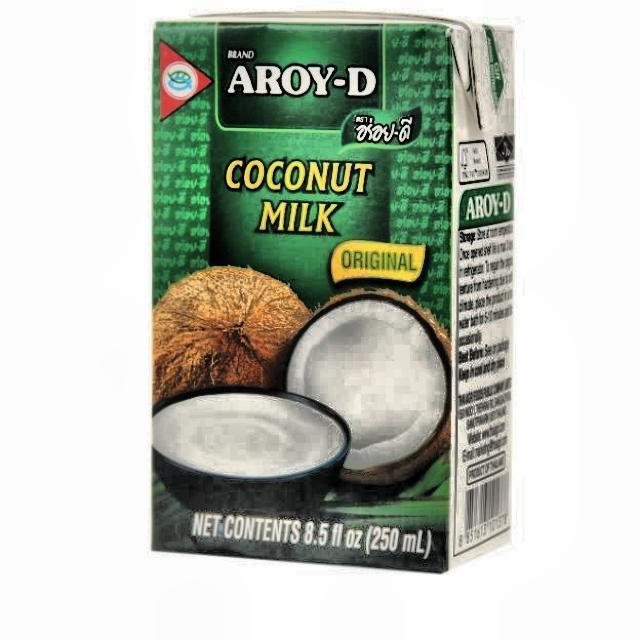cardboard: (150, 11, 515, 574)
